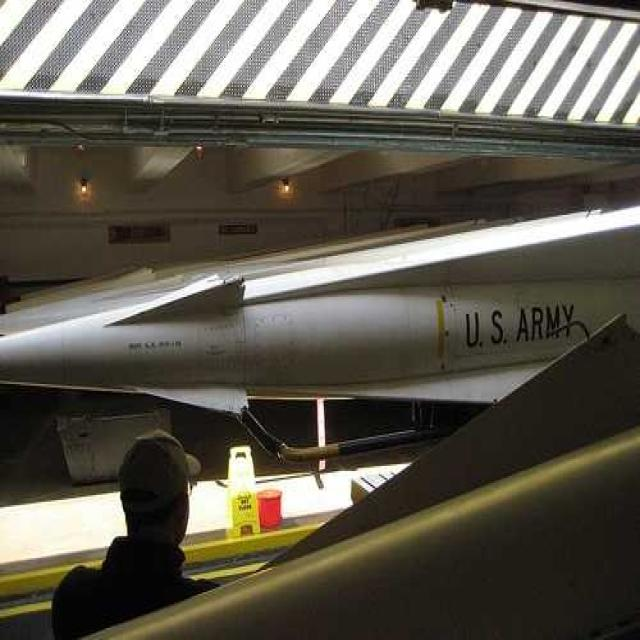missile: (0, 219, 639, 402)
